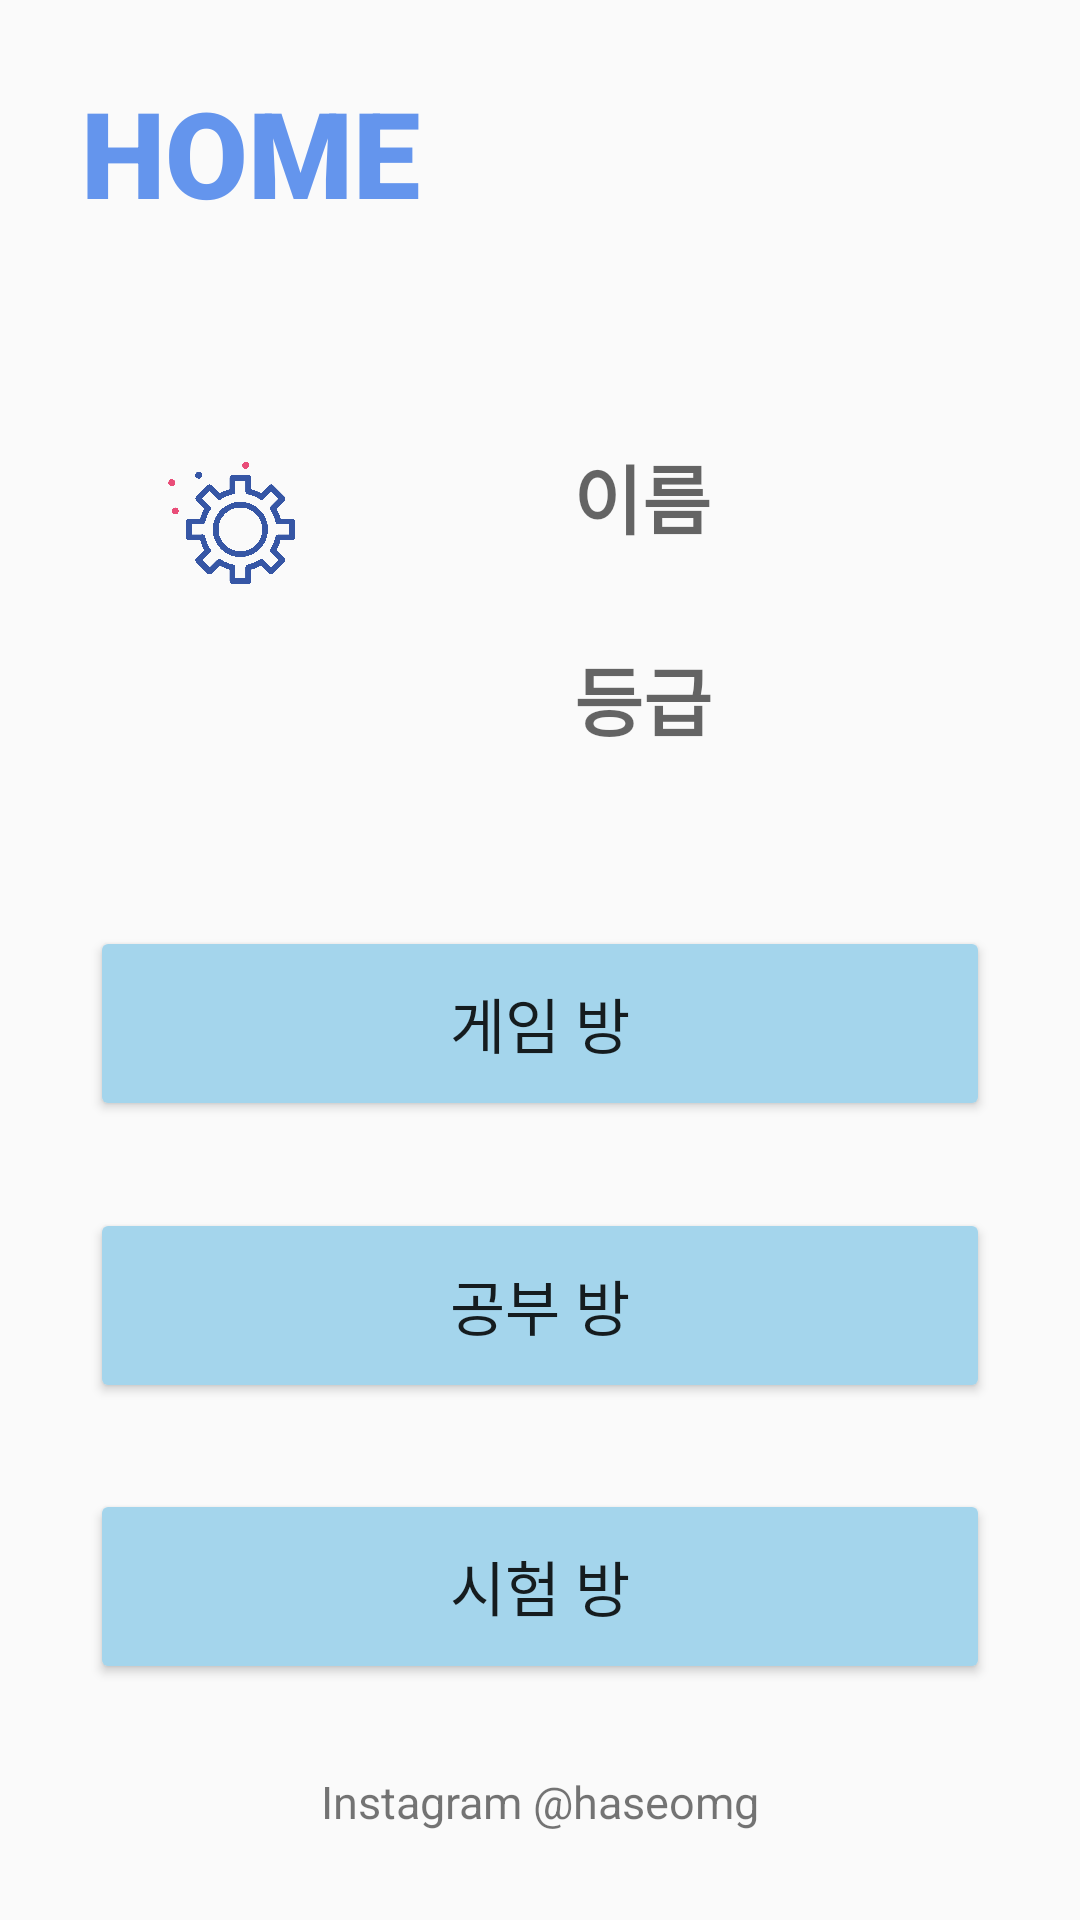

Screen size 1080w x 1920h. Icon name, then its center in pixels as point (x, y):
setting: point (231, 523)
